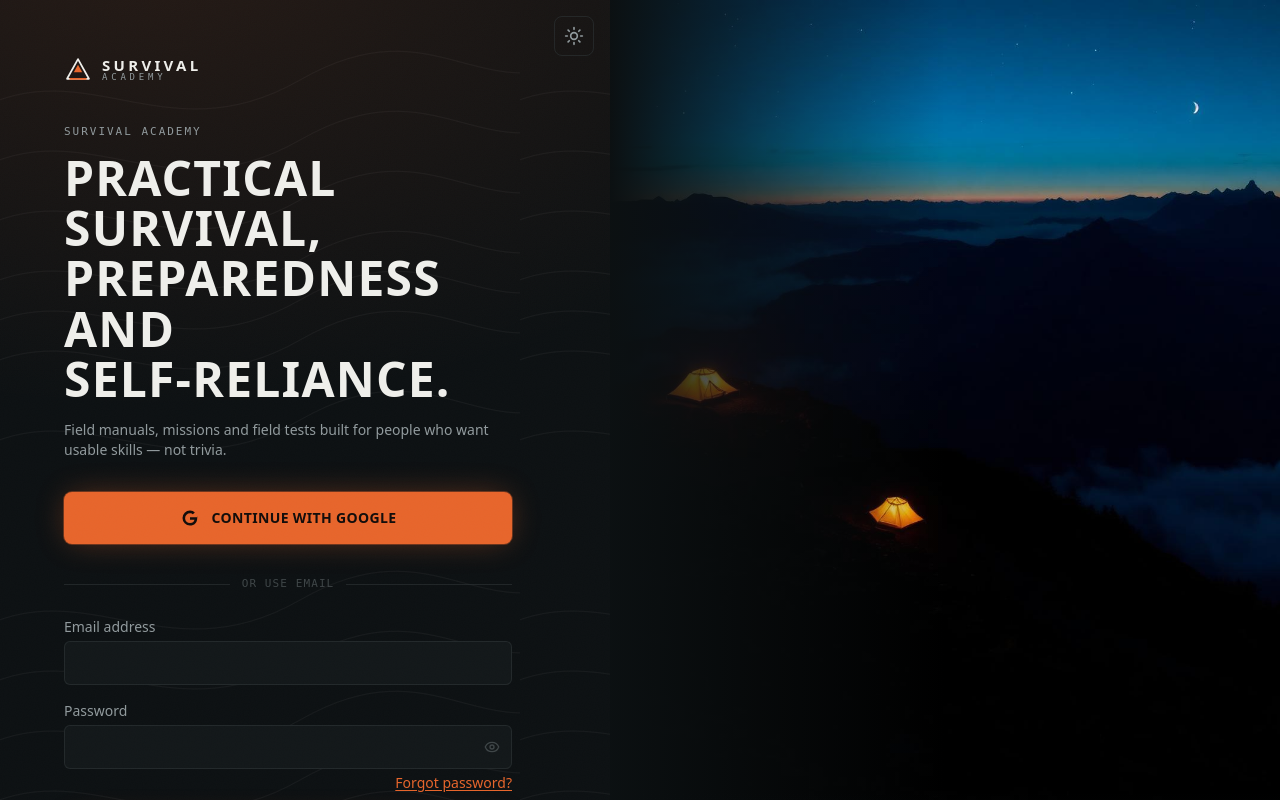
Test case: LoginScreen › shows the invalid-credentials message on a failed login
The width and height of the screenshot is (1280, 800).
Step 1. Type "ada@example.com" into the field labelled "Email address" → point(288, 663), box [64,641,512,685]
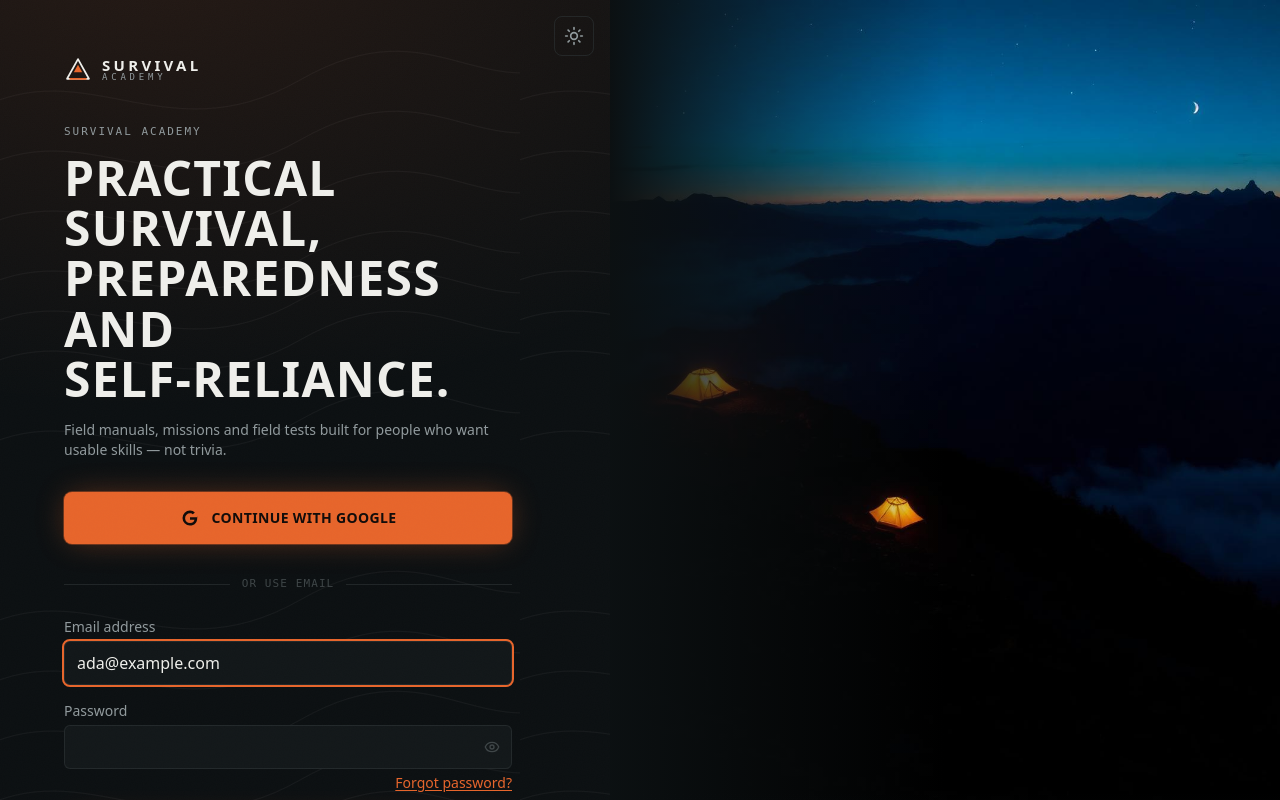
Step 2. Type "Wrong!Password#2026" into the password field labelled "Password" → point(288, 747), box [64,725,512,769]
(page scrolled)
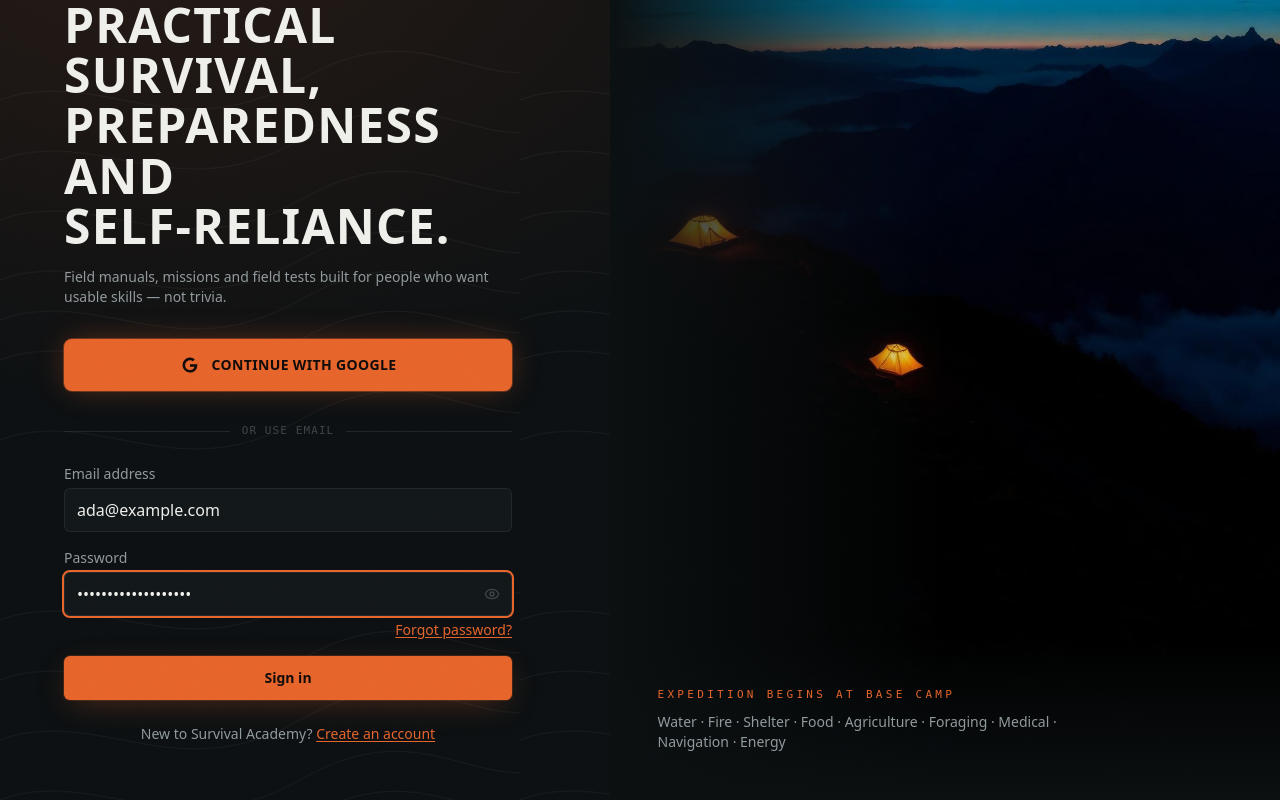
Step 3. Click the button "Sign in" → point(288, 678), box [64,656,512,700]
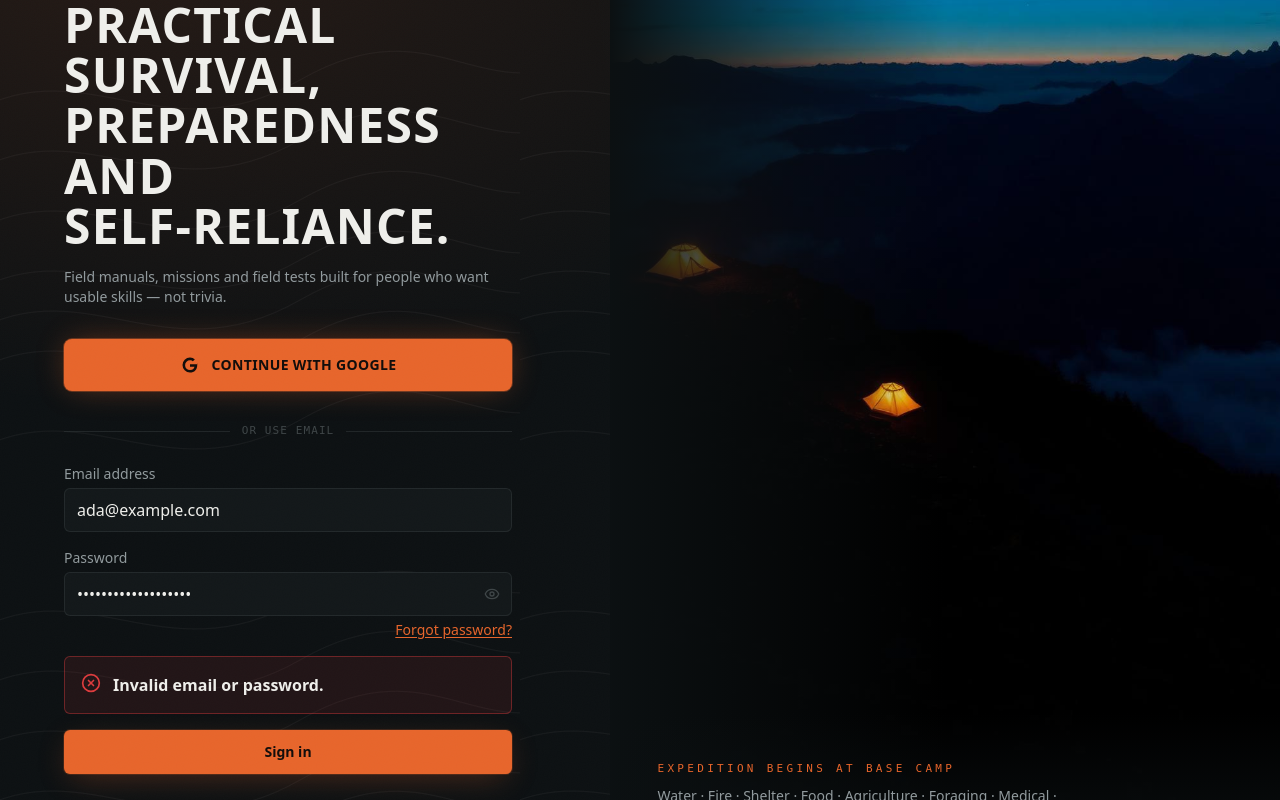
Check: the text "Invalid email or password." is shown, box [113,673,324,697]
